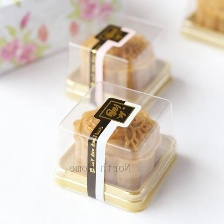plastic_box: (48, 76, 186, 216), (59, 6, 183, 120)
